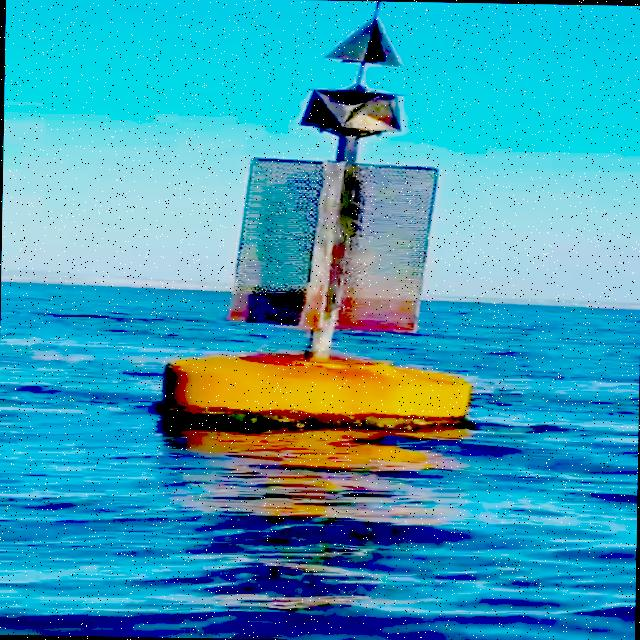marque: (154, 3, 480, 436)
